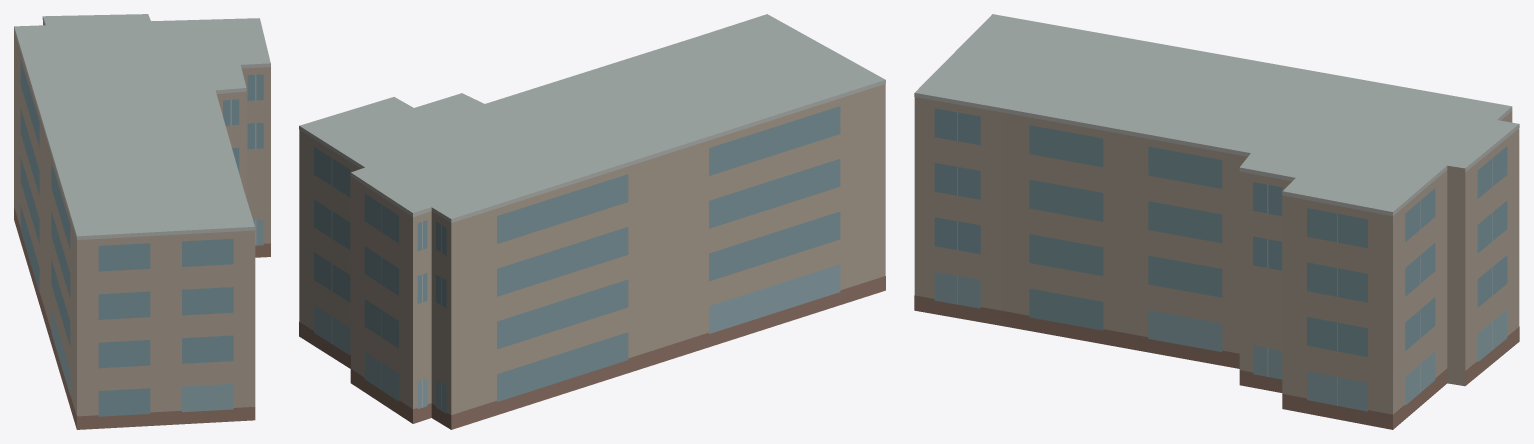
Rendered from survey-upis-32931981.glb.
3 renders of one model, left to right at view 1: azimuth 30°, elevation 25°; view 2: azimuth 150°, elevation 25°; view 3: azimuth 270°, elevation 25°, orthographic. The views are drawn at different scales.
Visible parts, largest first — view 1: survey-upis-32931981.tmp; view 2: survey-upis-32931981.tmp; view 3: survey-upis-32931981.tmp.
Boxes of the visible parts, box(x1,y1,x2,y2) form: survey-upis-32931981.tmp: box(14, 14, 270, 429); survey-upis-32931981.tmp: box(299, 14, 885, 429); survey-upis-32931981.tmp: box(914, 14, 1519, 429).
Bounding box in the file's own units: 24.88 × 12.75 × 32.11.
